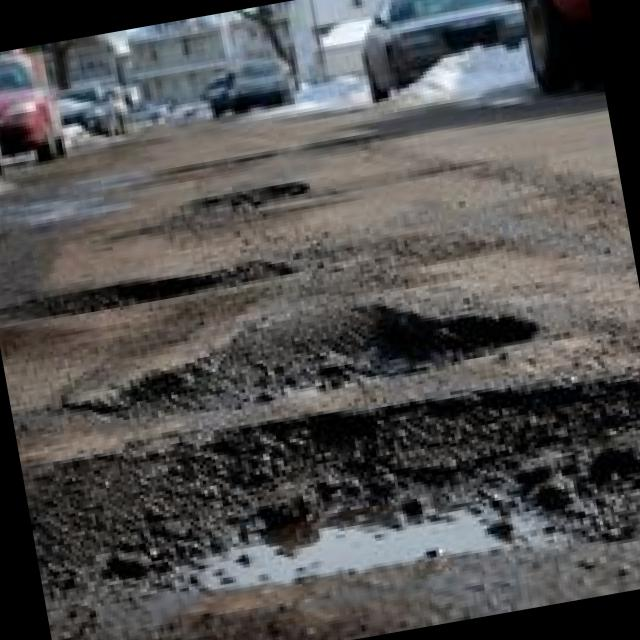Potholes: (58, 343, 640, 640), (113, 253, 568, 436), (0, 237, 334, 342), (142, 150, 346, 242)
